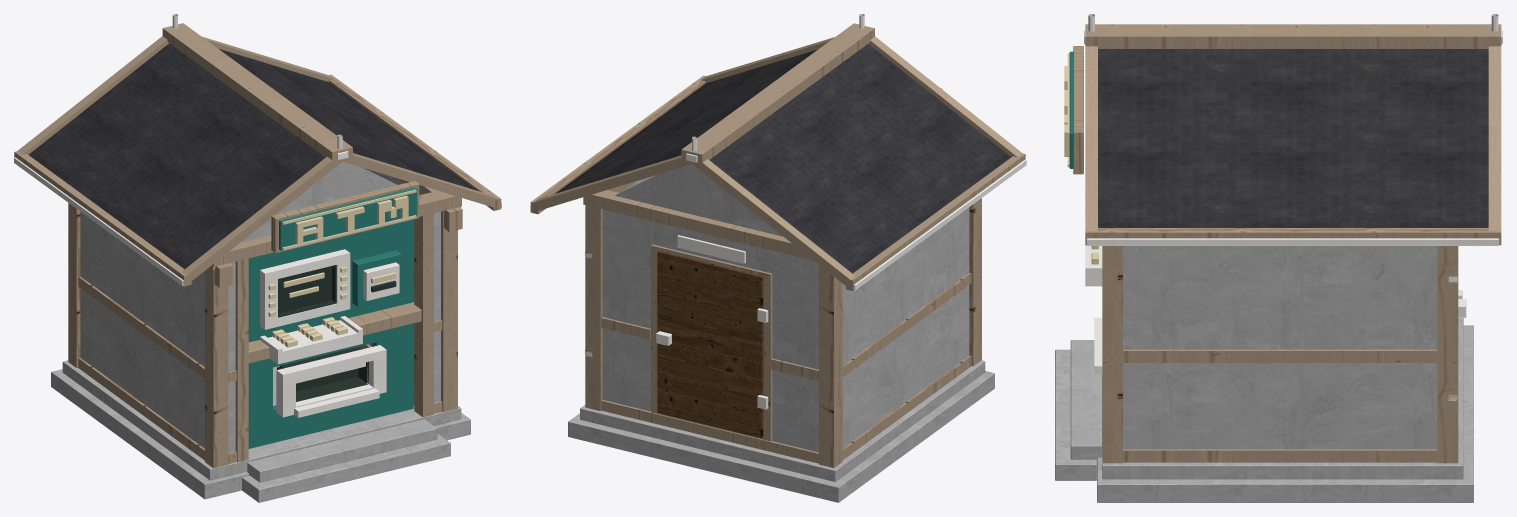
The model's file is atm.glb.
The picture shows the model from 3 angles, left to right: view 1: azimuth 30°, elevation 25°; view 2: azimuth 150°, elevation 25°; view 3: azimuth 270°, elevation 25°; orthographic projection. The views are drawn at different scales.
Parts seen in each view (by area): view 1: Static_ATMRoot_timber, Static_ATMRoot_plaster, ATM_Canopy_Roof, Static_ATMRoot_paint_teal, Static_ATMRoot_metal, Static_ATMRoot_cream, Static_ATMRoot_ink; view 2: Static_ATMRoot_plaster, ATM_Canopy_Roof, Static_ATMRoot_timber, Static_ATMRoot_boards, Static_ATMRoot_metal; view 3: Static_ATMRoot_plaster, ATM_Canopy_Roof, Static_ATMRoot_timber, Static_ATMRoot_metal, Static_ATMRoot_cream, Static_ATMRoot_paint_teal.
Part boxes in pixels (x1,y1,x2,y2): Static_ATMRoot_timber: (14, 23, 501, 468); Static_ATMRoot_plaster: (51, 161, 470, 502); ATM_Canopy_Roof: (28, 43, 476, 269); Static_ATMRoot_paint_teal: (248, 187, 417, 448); Static_ATMRoot_metal: (14, 14, 501, 417); Static_ATMRoot_cream: (268, 189, 416, 347); Static_ATMRoot_ink: (277, 265, 396, 401); Static_ATMRoot_plaster: (568, 164, 994, 502); ATM_Canopy_Roof: (555, 44, 1011, 273); Static_ATMRoot_timber: (530, 23, 1025, 467); Static_ATMRoot_boards: (657, 251, 763, 438); Static_ATMRoot_metal: (530, 14, 1026, 409); Static_ATMRoot_plaster: (1055, 246, 1473, 502); ATM_Canopy_Roof: (1098, 49, 1488, 227); Static_ATMRoot_timber: (1073, 24, 1501, 463); Static_ATMRoot_metal: (1084, 14, 1502, 400); Static_ATMRoot_cream: (1064, 53, 1098, 264); Static_ATMRoot_paint_teal: (1069, 51, 1073, 168).
Bounding box in the file's own units: 0.864 × 0.86 × 0.855.
8 materials, 5 textured.
